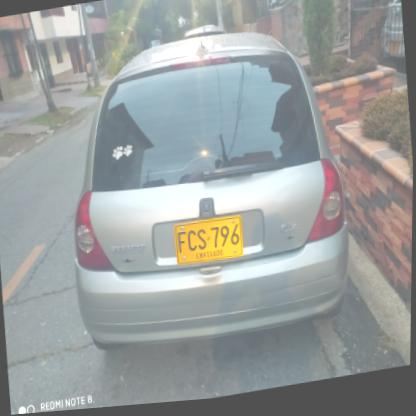placa: (170, 213, 248, 276)
